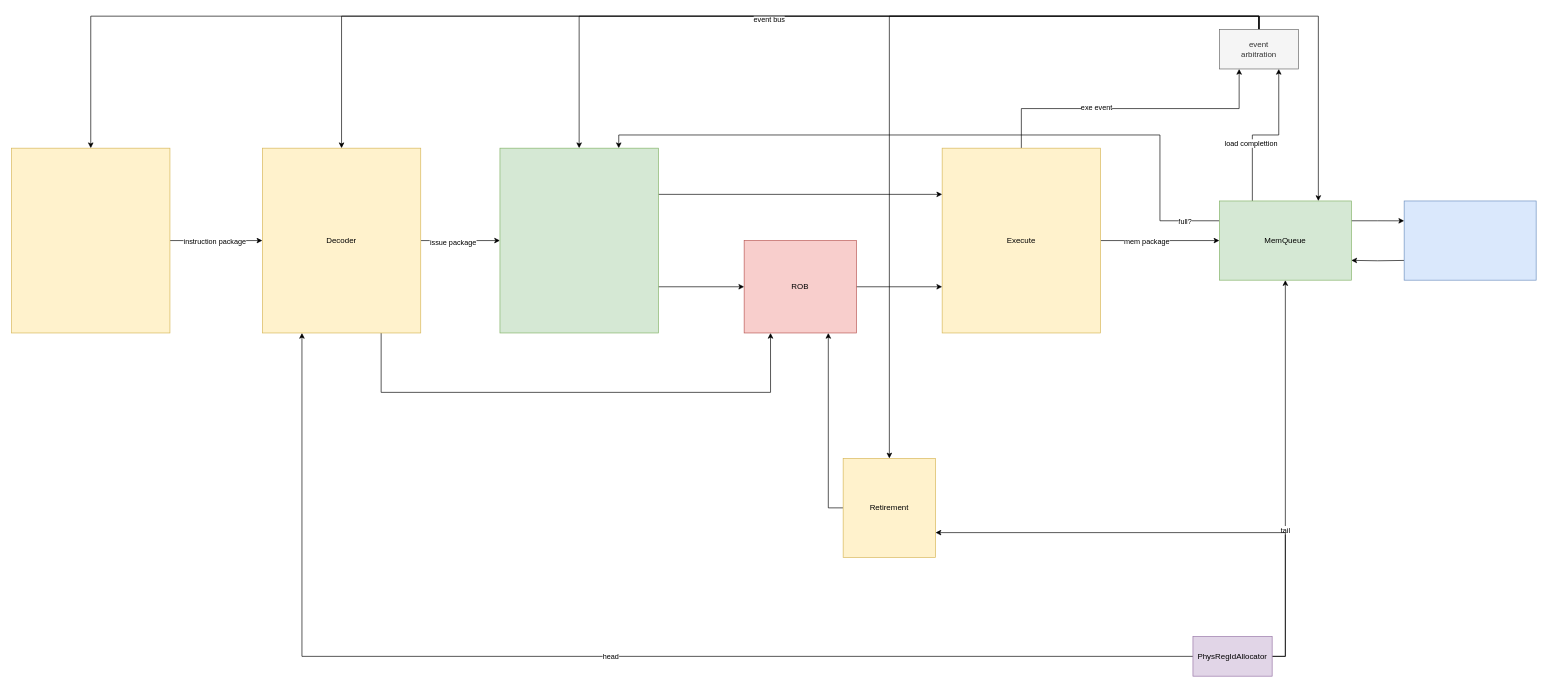
Image size: 1548x688. Some labels were removed from this diagram. Each missing label, with the box of its shape:
Instruction Streamer: (11, 148, 170, 333)
IssueQueue: (499, 148, 658, 333)
Memory: (1403, 200, 1536, 280)
